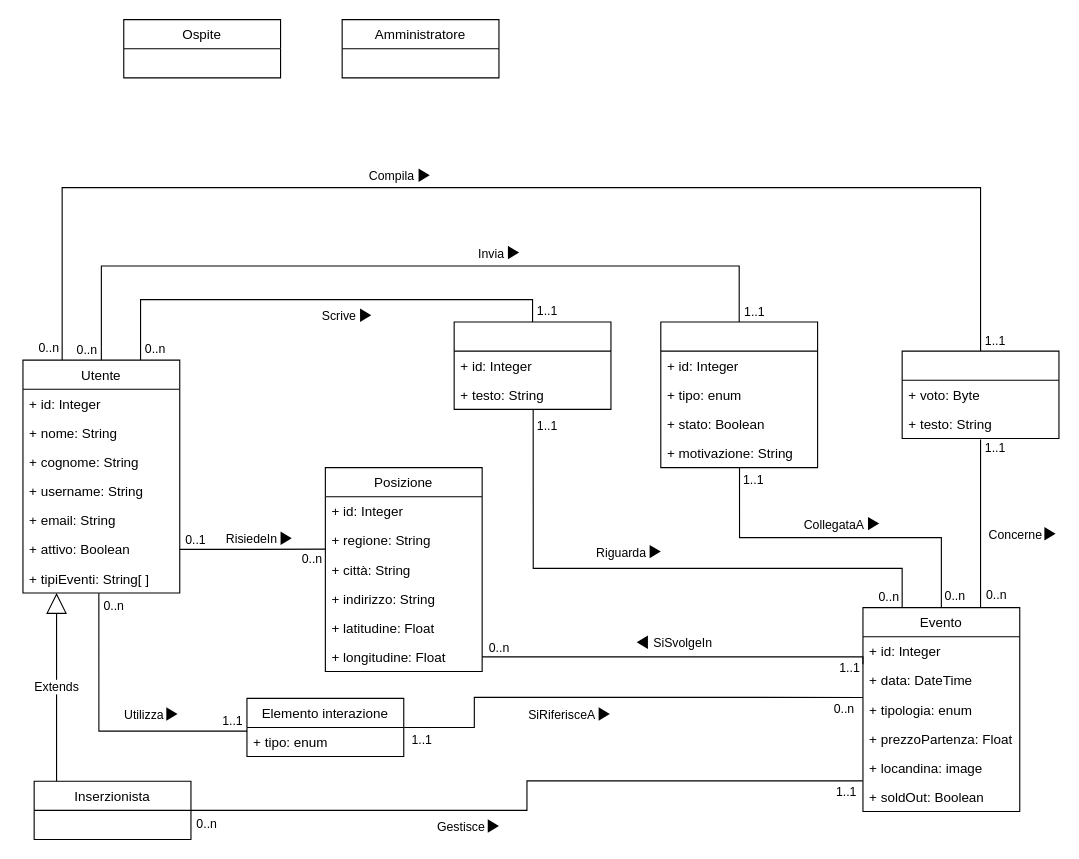
The diagram is 1079 pixels wide and 859 high, and some of its shapes have lost their labels. The shapes that lost their labels are listed below. From the top down, each one's box as (x1, y1, x2, y2) in pixels, then its label:
(453, 321, 611, 409): Commento
(660, 321, 818, 468): Segnalazione
(901, 350, 1059, 438): Recensione
